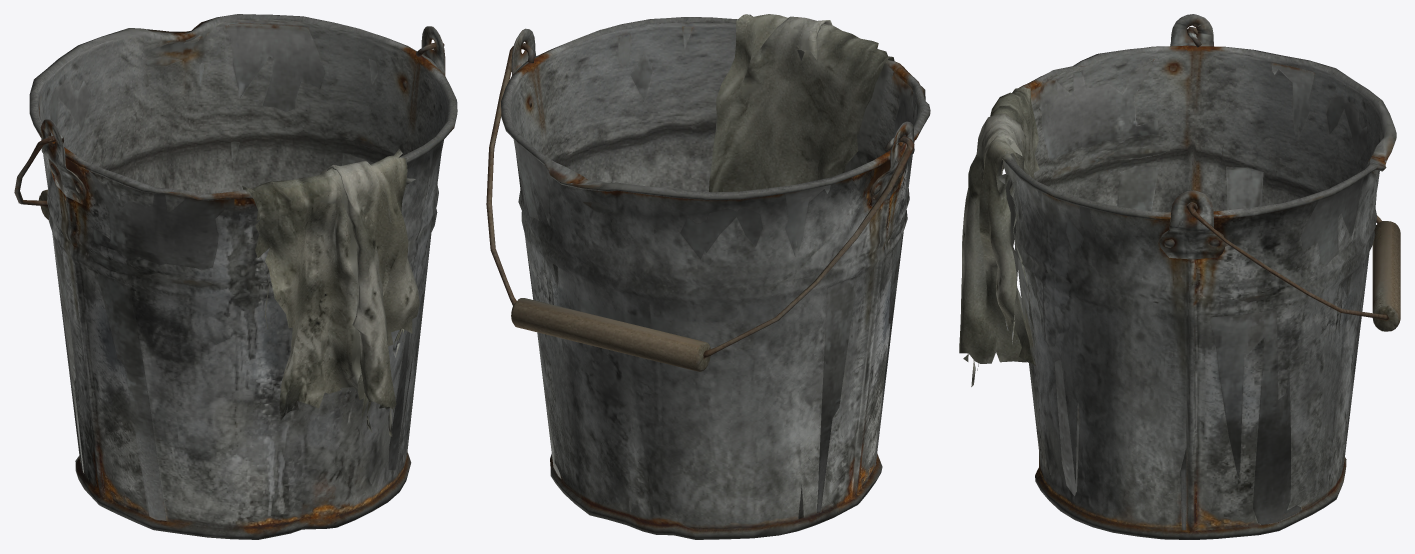
Rendered from silo81_bucket.glb.
The picture shows the model from 3 angles, left to right: view 1: azimuth 30°, elevation 25°; view 2: azimuth 150°, elevation 25°; view 3: azimuth 270°, elevation 25°; orthographic projection. The views are drawn at different scales.
Size of the model in its own units: 0.9434 by 0.8833 by 0.9424.
Materials: 1 (1 with a texture image).
